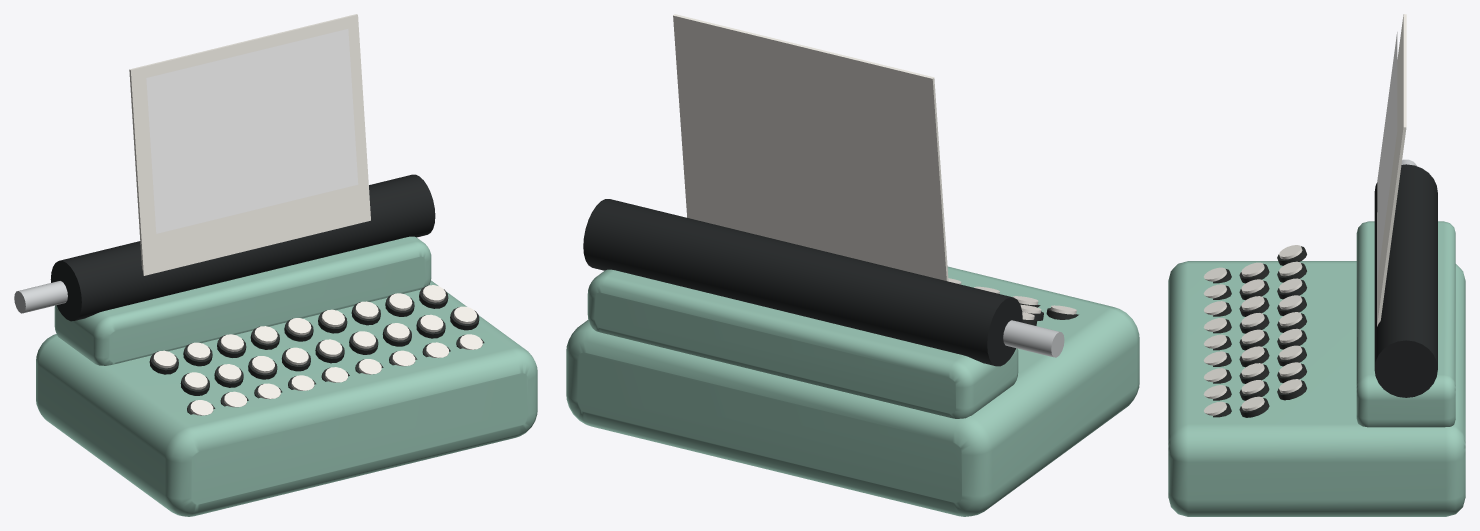
The model's file is typewriter.glb.
3 renders of one model, left to right at view 1: azimuth 30°, elevation 25°; view 2: azimuth 150°, elevation 25°; view 3: azimuth 270°, elevation 25°, orthographic. The views are drawn at different scales.
Parts seen in each view (by area): view 1: Body, Screen, Paper, Roller, Key, KeyRim, Chrome; view 2: Body, Paper, Roller, Chrome, Key; view 3: Body, Roller, Key, KeyRim, Paper, Screen.
Boxes of the visible parts, left/top/right/bottom form: Body: left=36, top=236, right=537, bottom=516; Screen: left=146, top=29, right=358, bottom=233; Paper: left=129, top=14, right=370, bottom=275; Roller: left=50, top=174, right=435, bottom=321; Key: left=153, top=285, right=482, bottom=415; KeyRim: left=149, top=285, right=484, bottom=414; Chrome: left=14, top=281, right=67, bottom=313; Body: left=566, top=266, right=1139, bottom=516; Paper: left=673, top=14, right=948, bottom=281; Roller: left=583, top=199, right=1022, bottom=366; Chrome: left=1003, top=320, right=1064, bottom=357; Key: left=948, top=278, right=1076, bottom=319; Body: left=1168, top=221, right=1465, bottom=516; Roller: left=1374, top=164, right=1437, bottom=397; Key: left=1203, top=245, right=1302, bottom=415; KeyRim: left=1213, top=246, right=1306, bottom=417; Paper: left=1377, top=14, right=1406, bottom=326; Screen: left=1377, top=32, right=1397, bottom=279.
Bounding box in the file's own units: 0.485 × 0.4044 × 0.3.
